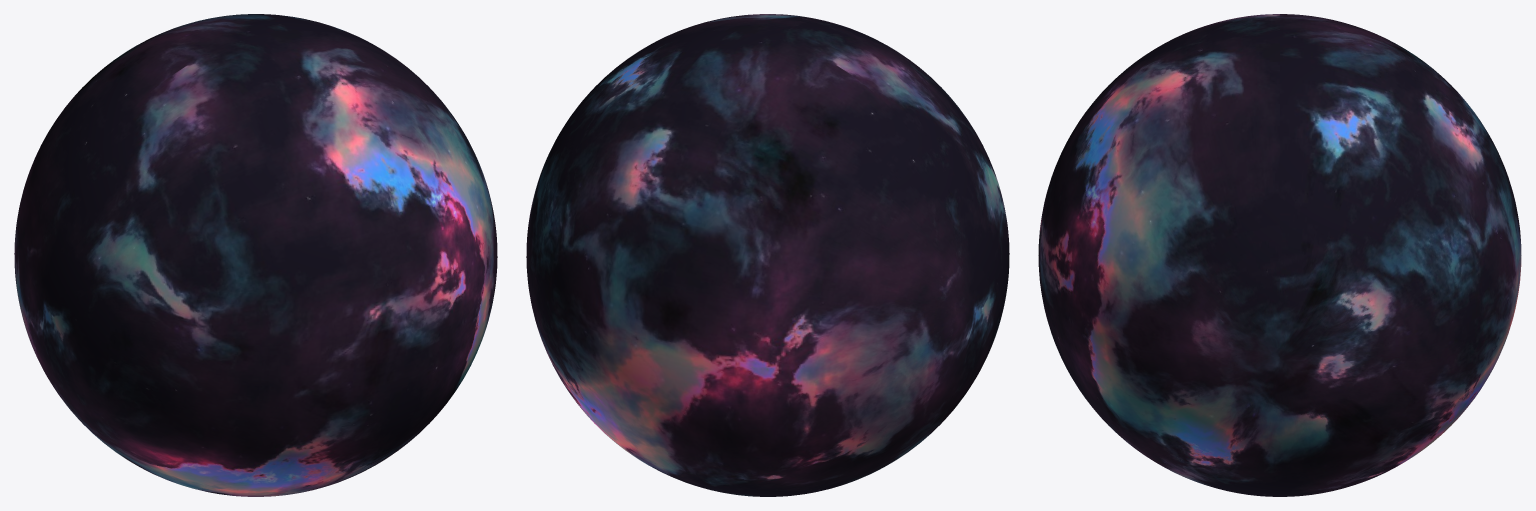
The model's file is planet3.glb.
The picture shows the model from 3 angles, left to right: view 1: azimuth 30°, elevation 25°; view 2: azimuth 150°, elevation 25°; view 3: azimuth 270°, elevation 25°; orthographic projection.
Visible parts, largest first — view 1: file; view 2: file; view 3: file.
Boxes of the visible parts, box(x1,y1,x2,y2) form: file: box(14, 14, 497, 496); file: box(526, 14, 1009, 496); file: box(1038, 14, 1521, 496).
Size of the model in its own units: 3.27 by 3.27 by 3.27.
Materials: 1 (1 with a texture image).
